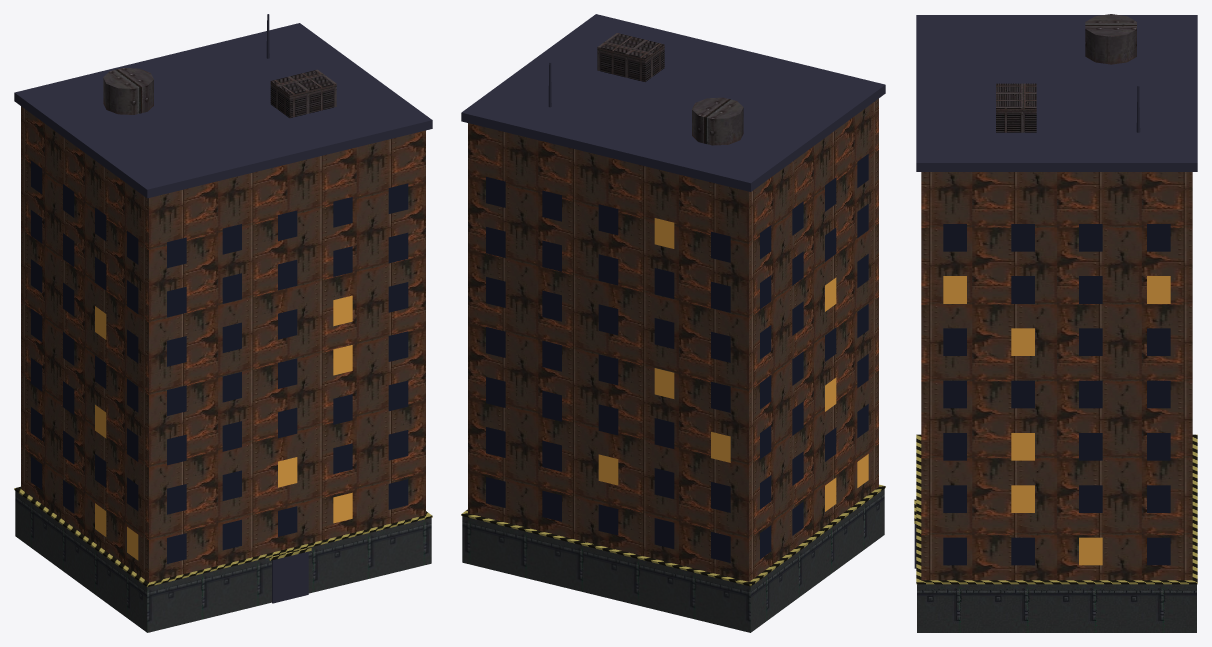
The model's file is prop_building_30m.glb.
3 renders of one model, left to right at view 1: azimuth 30°, elevation 25°; view 2: azimuth 150°, elevation 25°; view 3: azimuth 270°, elevation 25°, orthographic. The views are drawn at different scales.
Visible parts, largest first — view 1: prop_building_30m; view 2: prop_building_30m; view 3: prop_building_30m.
Part boxes in pixels (x1,y1,x2,y2): prop_building_30m: (14, 14, 432, 632); prop_building_30m: (461, 14, 885, 632); prop_building_30m: (914, 14, 1197, 632).
Bounding box in the file's own units: 20.6 × 33.6 × 16.72.
Materials: 8 (5 with a texture image).
